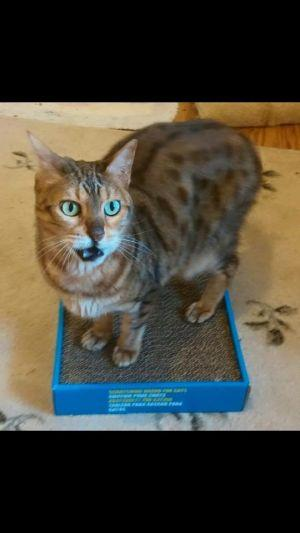bengal: (16, 118, 151, 272)
